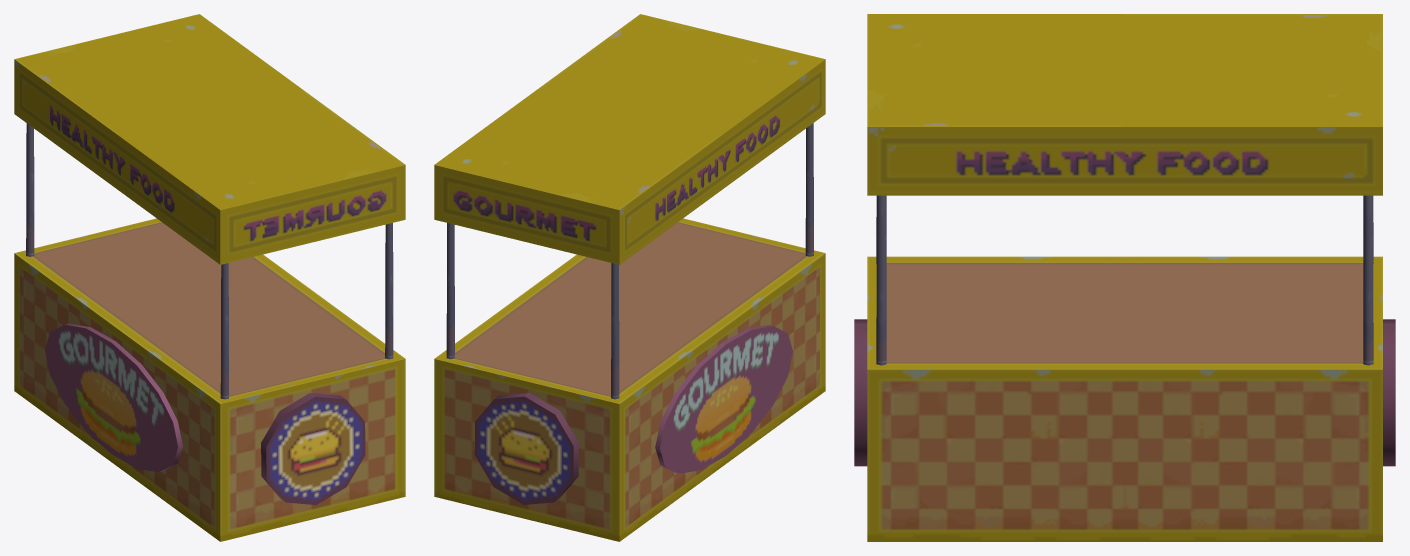
File: Pixel_Misc_0014.fbx
3 views of the same model, side by side, from view 1: azimuth 30°, elevation 25°; view 2: azimuth 150°, elevation 25°; view 3: azimuth 270°, elevation 25° (orthographic). The views are drawn at different scales.
Parts seen in each view (by area): view 1: Pixel_Misc_0014; view 2: Pixel_Misc_0014; view 3: Pixel_Misc_0014.
Part boxes in pixels (x1,y1,x2,y2): Pixel_Misc_0014: (14,14,405,541); Pixel_Misc_0014: (434,14,825,541); Pixel_Misc_0014: (854,14,1395,541).
Bounding box in the file's own units: 144 × 240 × 284.
